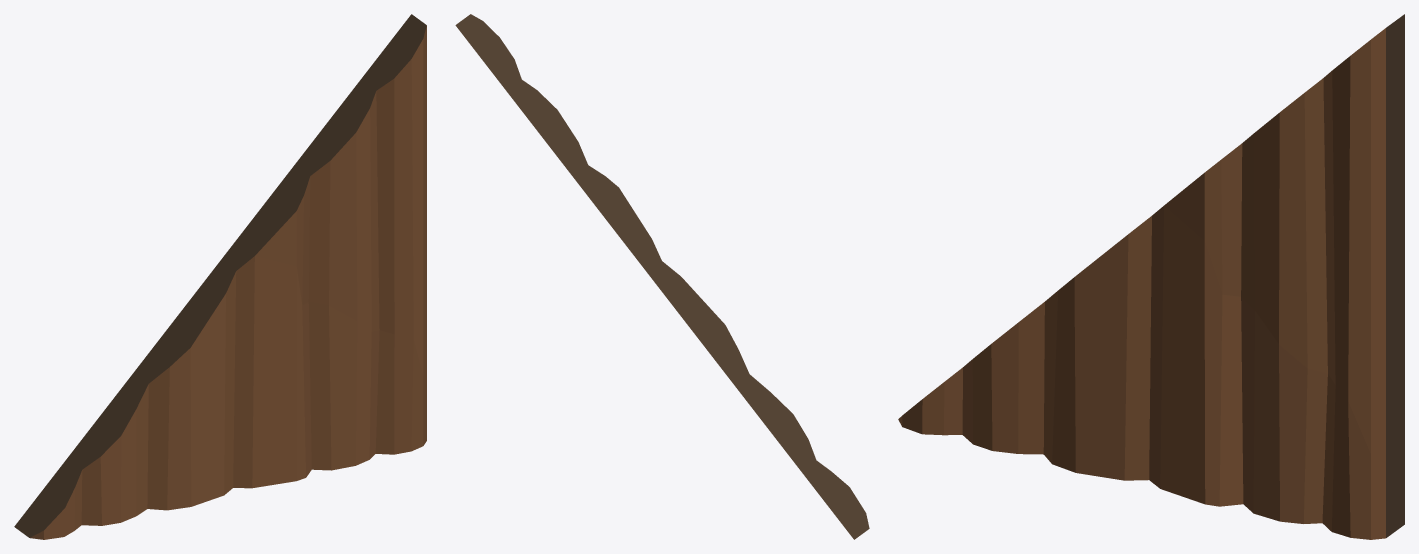
The model's file is buildings-wall-wood-vertical-end-l-3x3m.glb.
3 renders of one model, left to right at view 1: azimuth 30°, elevation 25°; view 2: azimuth 150°, elevation 25°; view 3: azimuth 330°, elevation 25°, orthographic. The views are drawn at different scales.
Parts seen in each view (by area): view 1: wall-wood-vertical-end-l-3x3m; view 2: wall-wood-vertical-end-l-3x3m; view 3: wall-wood-vertical-end-l-3x3m.
Part boxes in pixels (x1,y1,x2,y2): wall-wood-vertical-end-l-3x3m: (14, 14, 426, 539); wall-wood-vertical-end-l-3x3m: (455, 14, 869, 539); wall-wood-vertical-end-l-3x3m: (898, 14, 1404, 539).
Size of the model in its own units: 3 by 3 by 0.3163.
